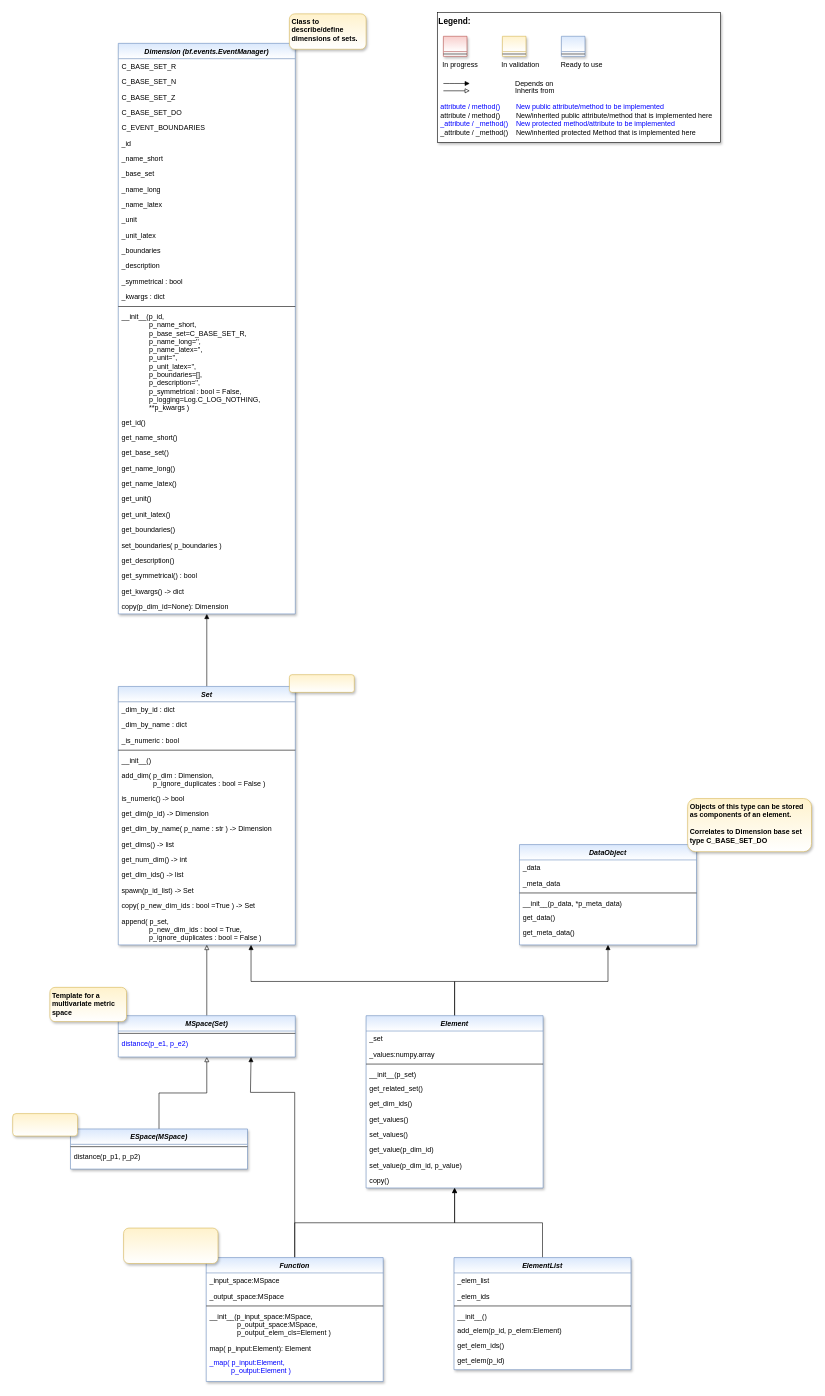
This 825x1396 diagram has some shape labels left out. Each missing label, with the centre of its shape:
"Multivariate Euclidian space" goes at (x=45, y=1125).
"Multivariate Set" goes at (x=322, y=684).
"Template for Bi-Multivariate mathematical functions" goes at (x=171, y=1246).
